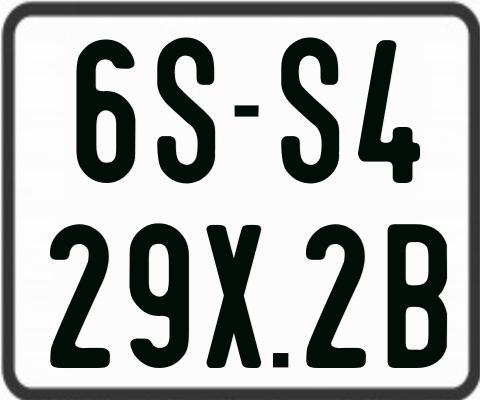2: (48, 222, 112, 366), (304, 221, 366, 366)
4: (357, 37, 424, 184)
6: (73, 40, 133, 185)
9: (126, 220, 192, 366)
B: (387, 222, 450, 368)
S: (281, 34, 341, 183), (155, 37, 214, 188)
X: (207, 223, 266, 367)
